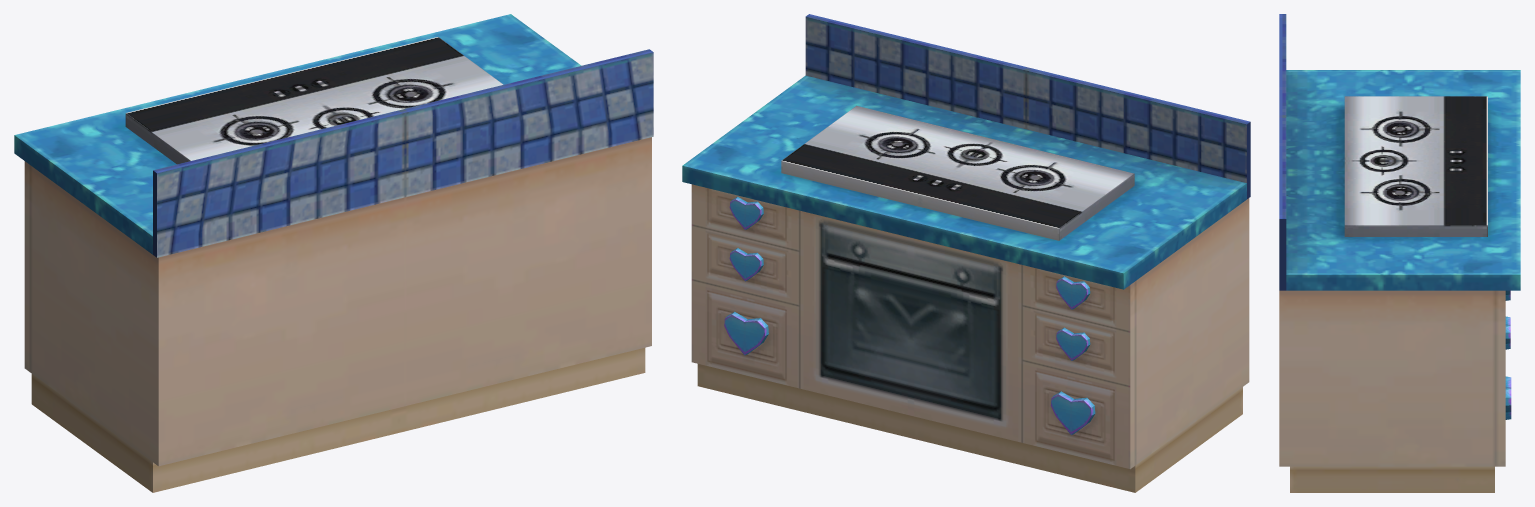
The model's file is furni_0200018_03.FBX.
3 views of the same model, side by side, from view 1: azimuth 30°, elevation 25°; view 2: azimuth 150°, elevation 25°; view 3: azimuth 270°, elevation 25° (orthographic). The views are drawn at different scales.
Visible parts, largest first — view 1: furni_0200018_03; view 2: furni_0200018_03; view 3: furni_0200018_03.
Part boxes in pixels (<box>): furni_0200018_03: <box>14,14,653,492</box>; furni_0200018_03: <box>682,14,1250,492</box>; furni_0200018_03: <box>1279,14,1520,492</box>.
Size of the model in its own units: 161 by 100 by 80.
